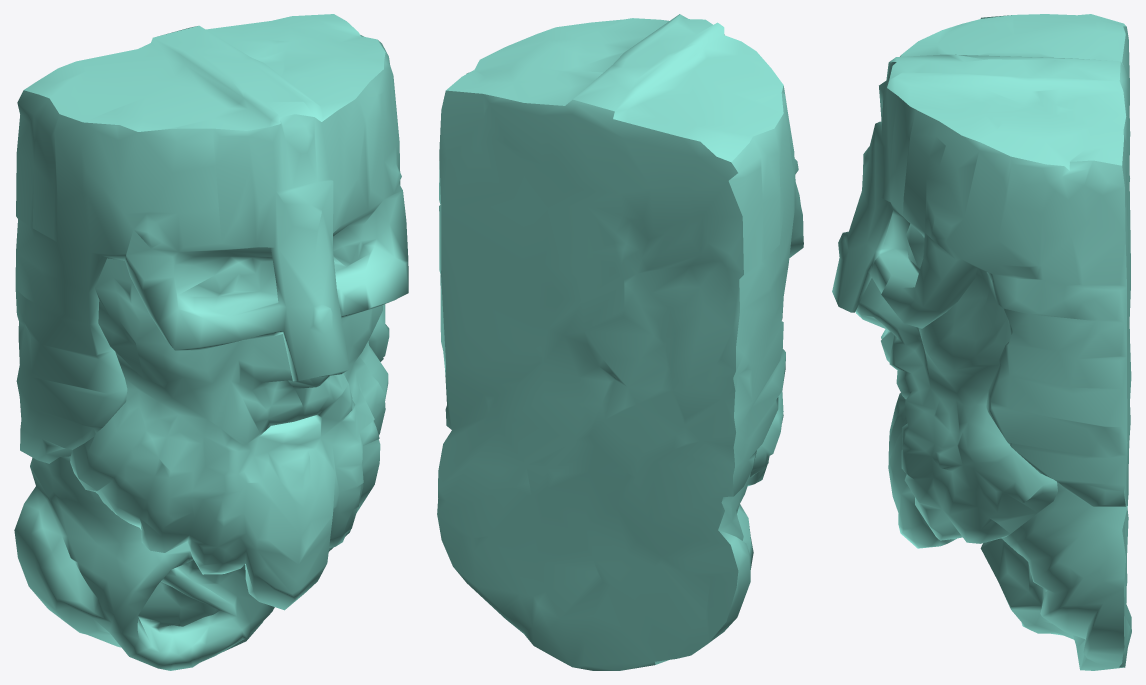
File: sculpture_03.fbx
3 views of the same model, side by side, from view 1: azimuth 30°, elevation 25°; view 2: azimuth 150°, elevation 25°; view 3: azimuth 270°, elevation 25° (orthographic). The views are drawn at different scales.
Parts seen in each view (by area): view 1: sculpture_03_LOD0; view 2: sculpture_03_LOD0; view 3: sculpture_03_LOD0.
Boxes of the visible parts, box(x1,y1,x2,y2) form: sculpture_03_LOD0: box(14, 14, 408, 670); sculpture_03_LOD0: box(437, 14, 803, 670); sculpture_03_LOD0: box(832, 14, 1131, 670).
Bounding box in the file's own units: 48.43 × 86.62 × 39.59.
